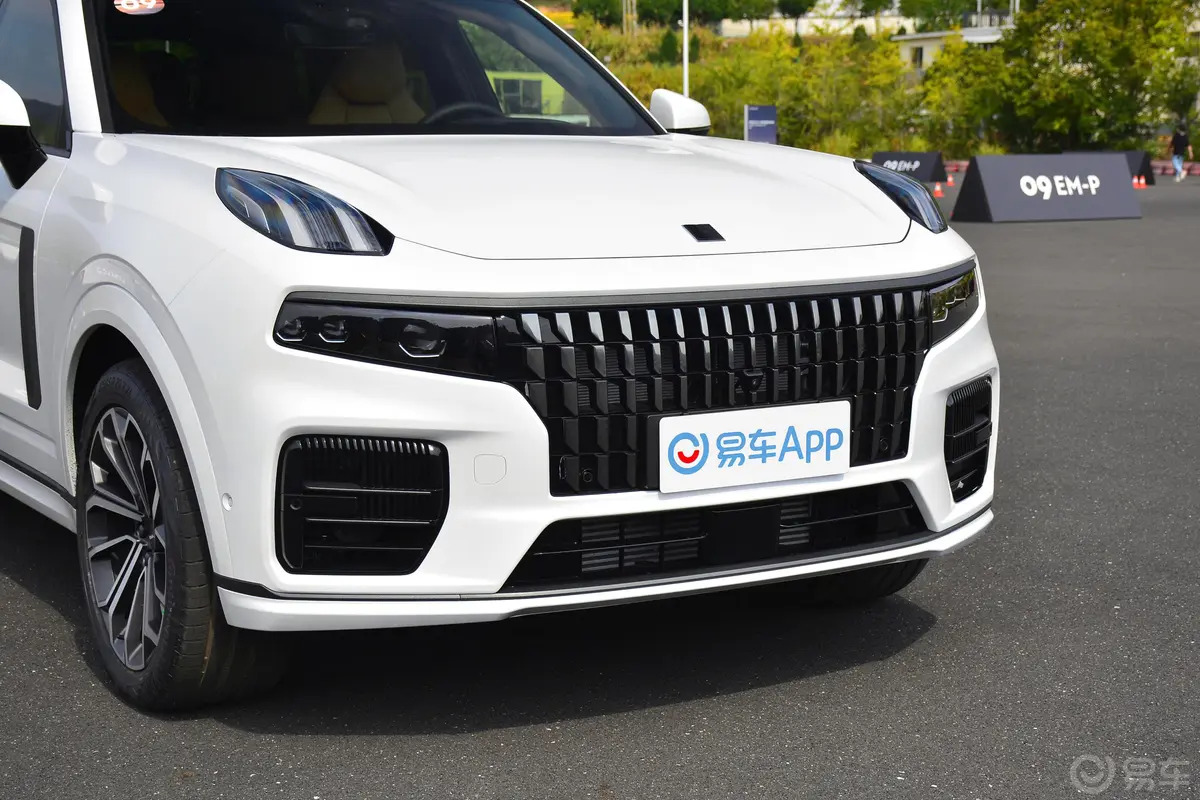LINK&CO: (683, 224, 725, 242)
